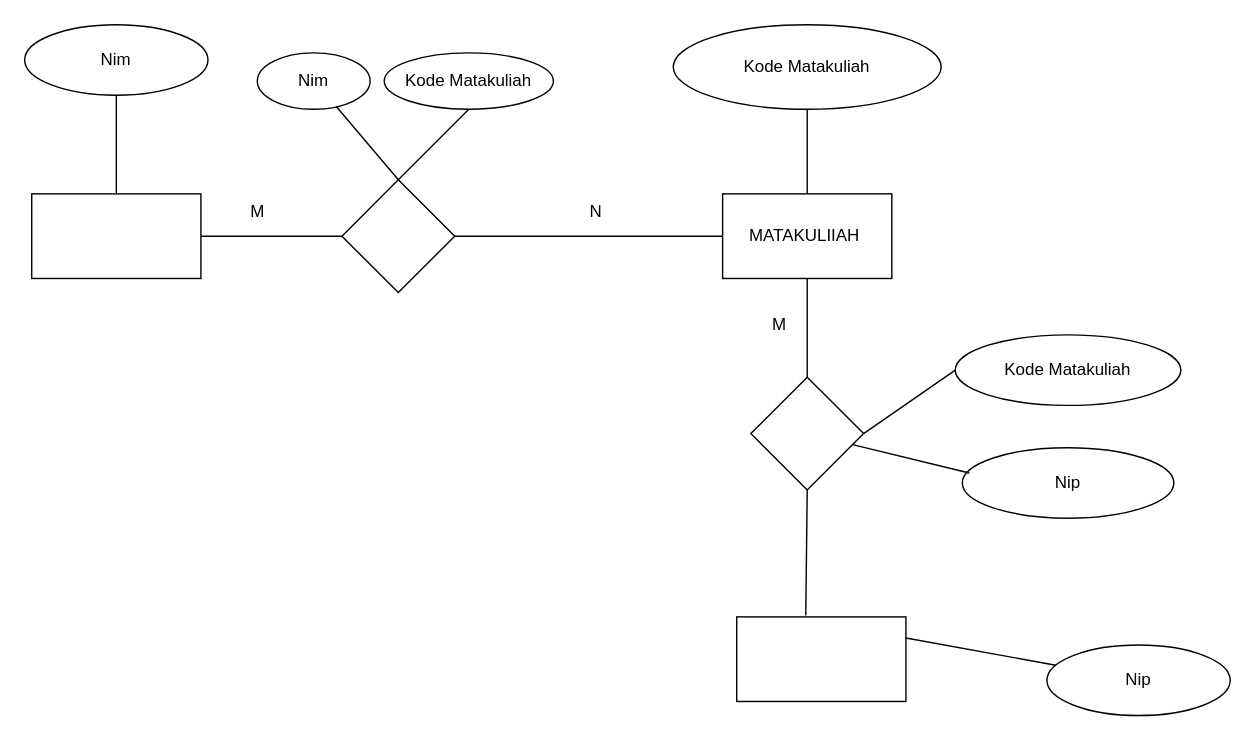
Image size: 1255x740. Some labels were removed from this diagram. Each missing label, with the centre of its shape:
"DOSEN" belongs at point 820,658.
"MAHASISWA" belongs at point 115,235.
"mengajar" belongs at point 806,433.
"mengambil" belongs at point 398,235.
